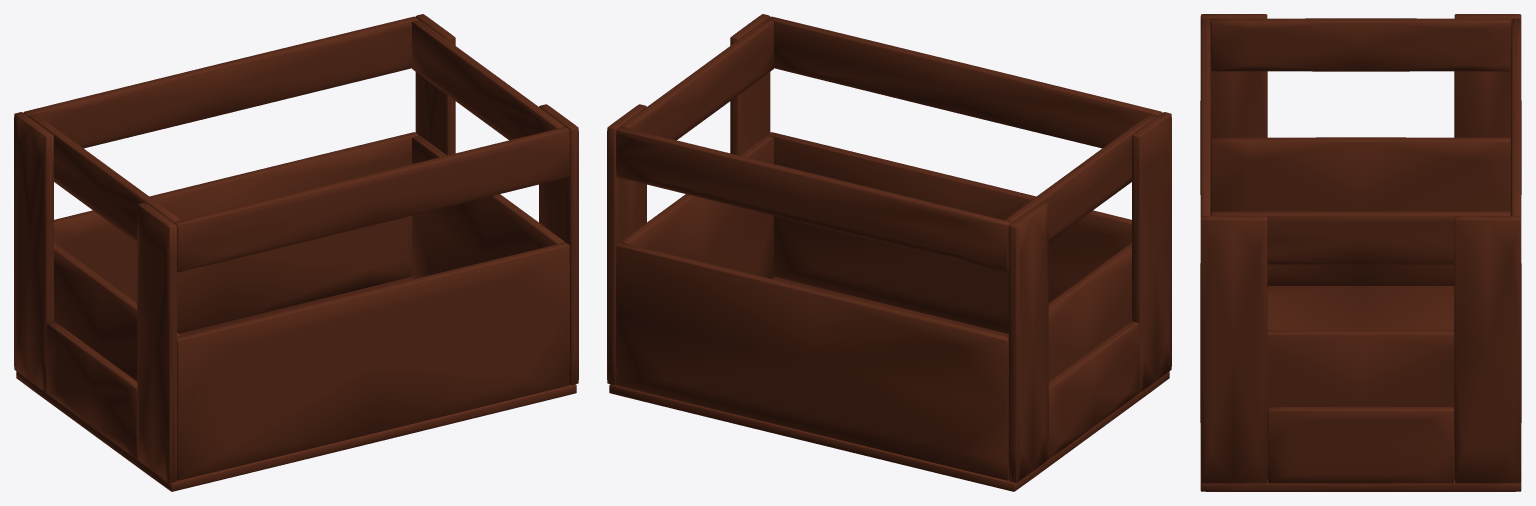
File: Basket.fbx
3 views of the same model, side by side, from view 1: azimuth 30°, elevation 25°; view 2: azimuth 150°, elevation 25°; view 3: azimuth 270°, elevation 25° (orthographic). The views are drawn at different scales.
Visible parts, largest first — view 1: box8; view 2: box8; view 3: box8.
Part boxes in pixels (left/top/right/bottom): box8: left=14, top=14, right=578, bottom=491; box8: left=607, top=14, right=1171, bottom=491; box8: left=1200, top=14, right=1521, bottom=491.
Size of the model in its own units: 83.6 by 51.8 by 55.
